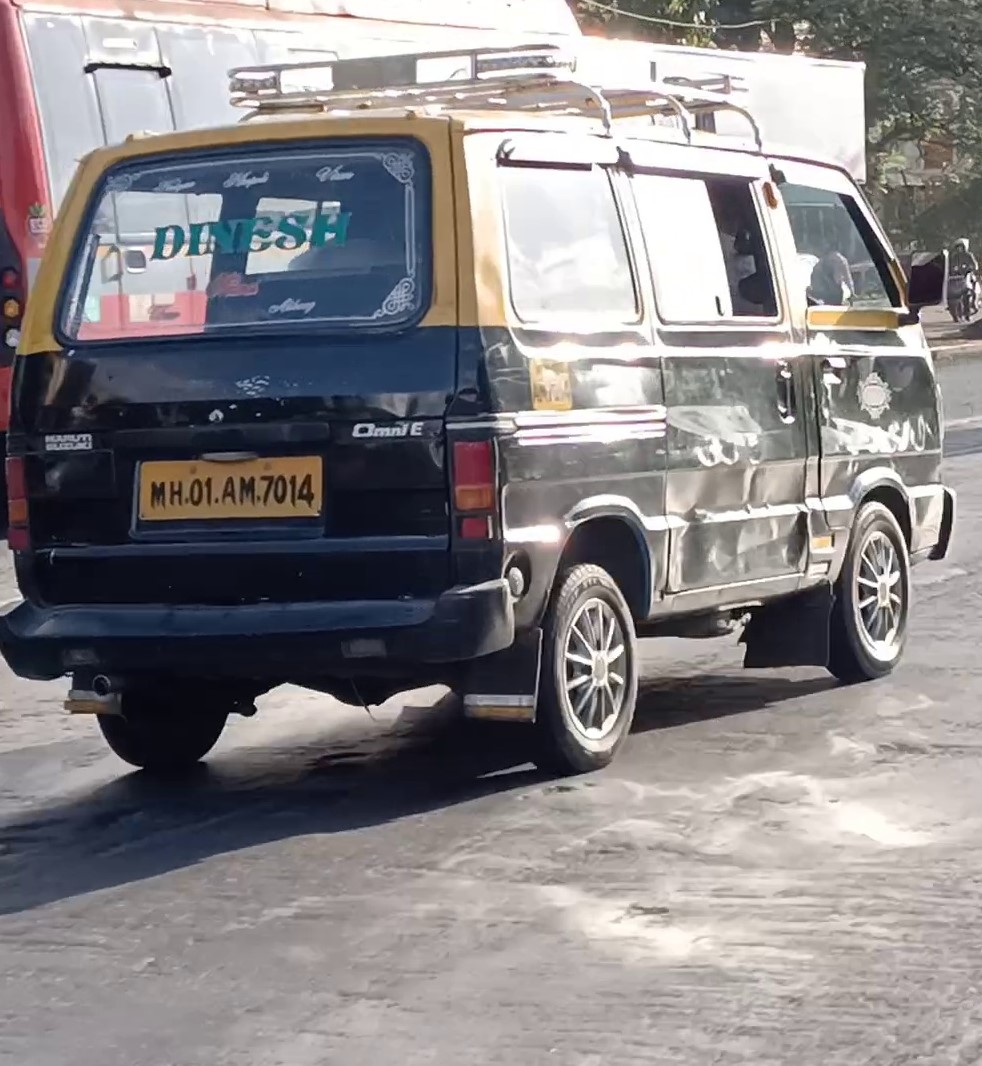MH01AM7014: (140, 455, 322, 519)
